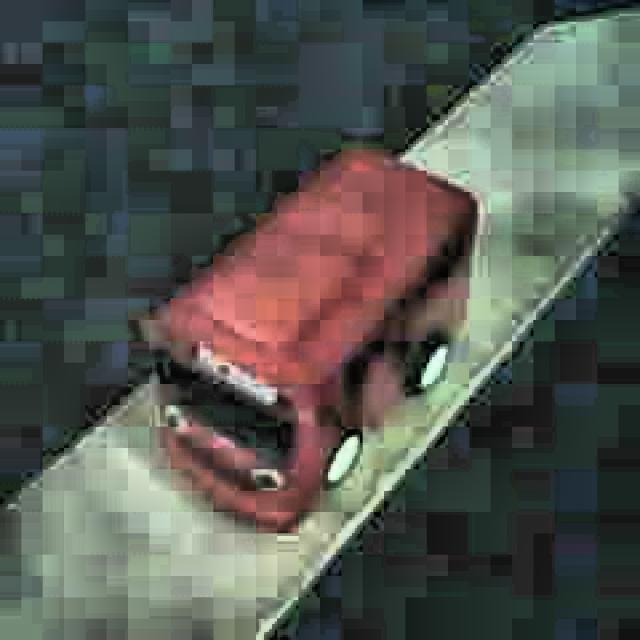bus: (152, 147, 478, 532)
